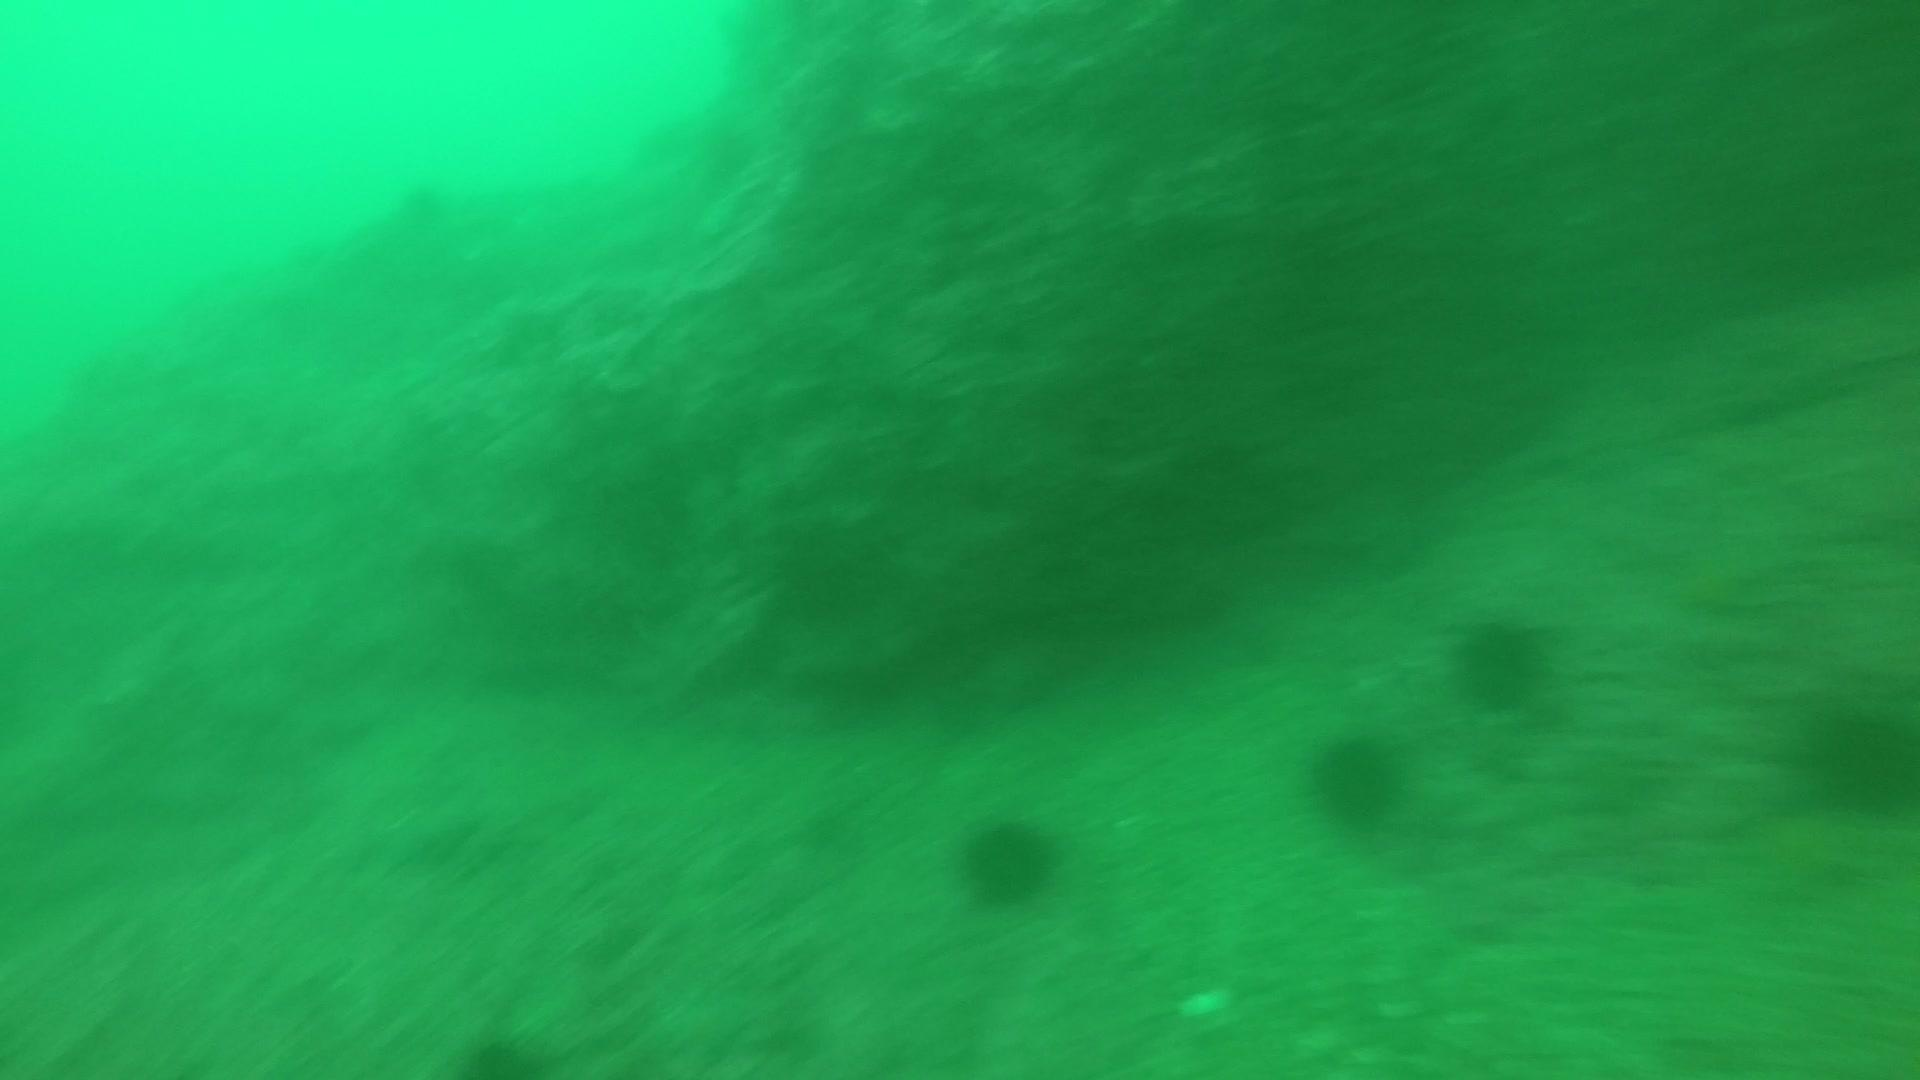echinus: (1795, 694, 1919, 822), (1302, 723, 1412, 833), (1445, 604, 1557, 713), (951, 808, 1065, 911), (440, 1015, 564, 1080)
